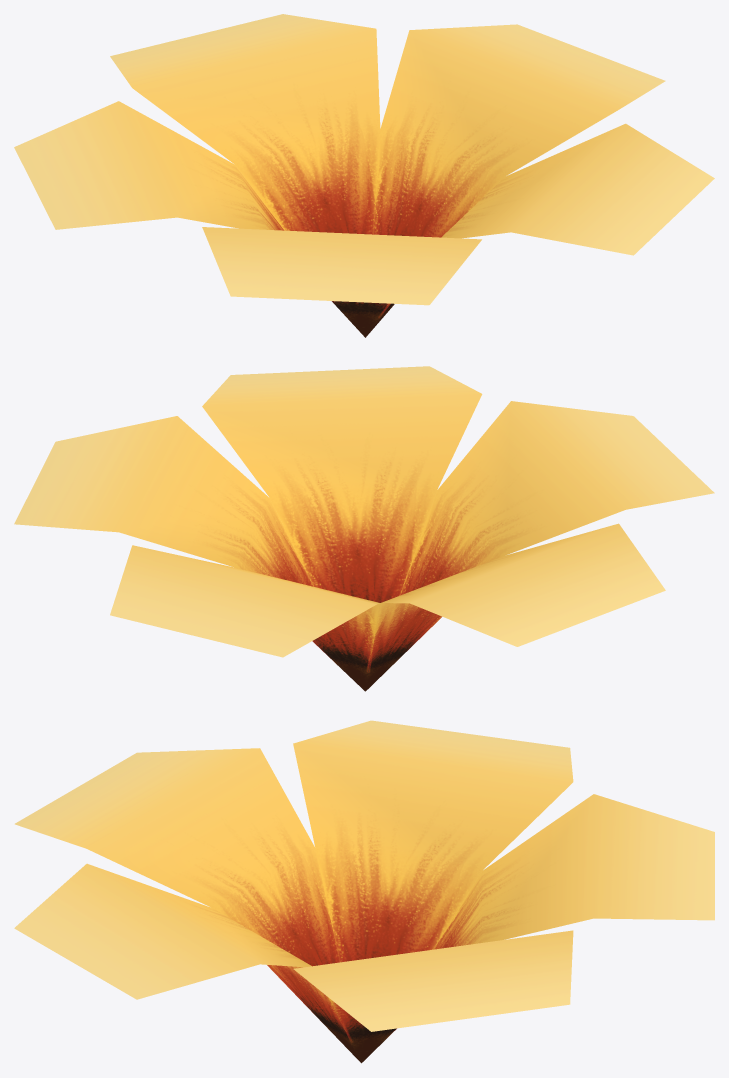
The model's file is Flower10.glb.
3 views of the same model, one above another, from view 1: azimuth 30°, elevation 25°; view 2: azimuth 150°, elevation 25°; view 3: azimuth 270°, elevation 25° (orthographic). The views are drawn at different scales.
Visible parts, largest first — view 1: Yellow Flower_Flowers_0; view 2: Yellow Flower_Flowers_0; view 3: Yellow Flower_Flowers_0.
Part boxes in pixels (x1,y1,x2,y2): Yellow Flower_Flowers_0: [14, 14, 714, 337]; Yellow Flower_Flowers_0: [14, 366, 714, 691]; Yellow Flower_Flowers_0: [14, 720, 714, 1063].
Bounding box in the file's own units: 0.0801 × 0.0248 × 0.0762.
Materials: 1 (1 with a texture image).
